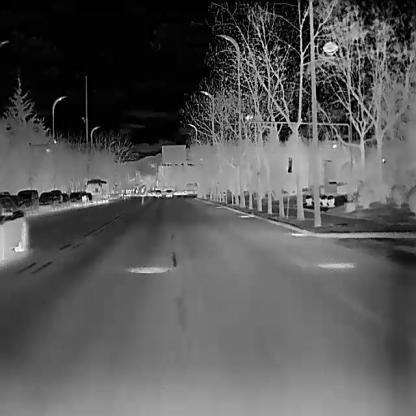bus: (85, 177, 107, 202)
car: (0, 194, 27, 254), (19, 188, 39, 212), (38, 192, 58, 211), (71, 192, 86, 206), (56, 192, 69, 206), (165, 188, 173, 197), (154, 190, 161, 198)
